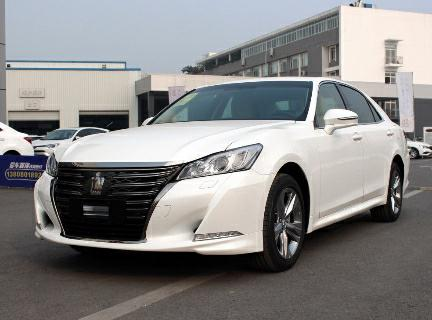丰田-皇冠: (28, 78, 417, 276)
